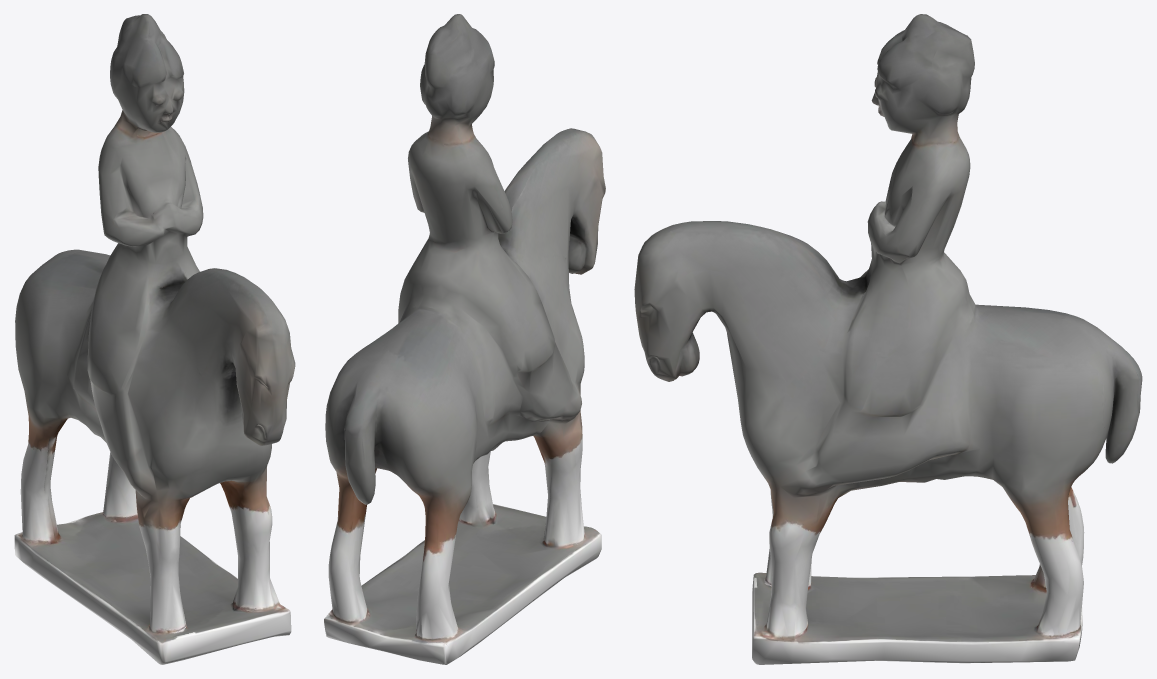
3 renders of one model, left to right at view 1: azimuth 30°, elevation 25°; view 2: azimuth 150°, elevation 25°; view 3: azimuth 270°, elevation 25°, orthographic. The views are drawn at different scales.
Parts seen in each view (by area): view 1: node_0; view 2: node_0; view 3: node_0.
Boxes of the visible parts, x1,y1,x2,y2 form: node_0: (14, 14, 295, 664); node_0: (324, 14, 605, 664); node_0: (634, 14, 1142, 664).
Bounding box in the file's own units: 0.2503 × 1.03 × 0.7718.
1 material, 1 textured.
